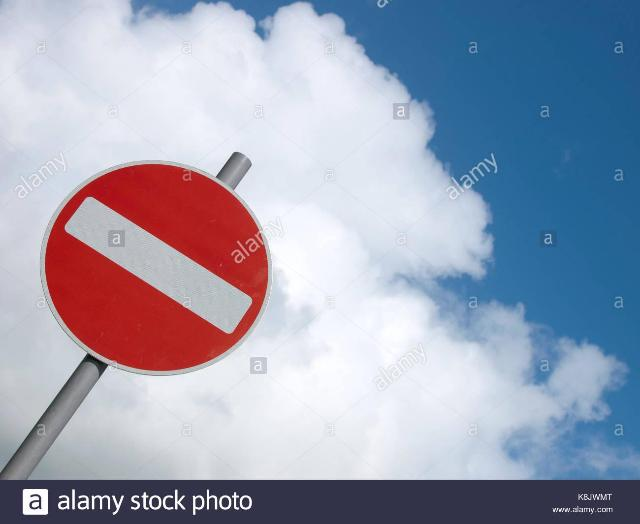B2: (39, 159, 273, 377)
